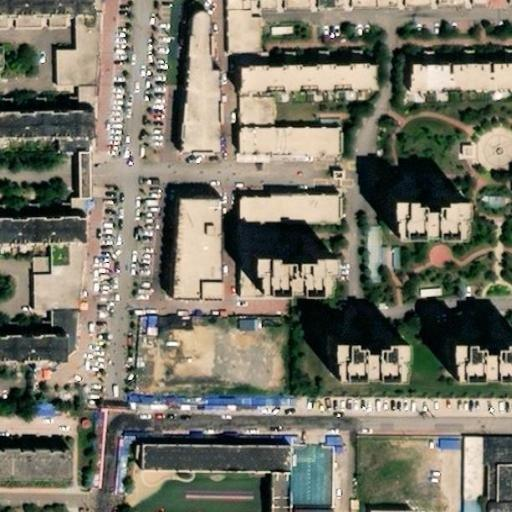building: (170, 194, 226, 306), (183, 30, 223, 173), (238, 71, 379, 106), (36, 254, 81, 355), (144, 464, 291, 491), (59, 22, 99, 121), (266, 261, 352, 307), (246, 196, 345, 232), (415, 72, 512, 107), (333, 334, 410, 378), (405, 202, 482, 246), (241, 135, 344, 167), (0, 0, 99, 28), (450, 327, 512, 371), (0, 227, 85, 259), (0, 455, 73, 489), (64, 147, 91, 228), (0, 328, 63, 361), (233, 0, 373, 12), (243, 259, 280, 300), (103, 429, 127, 491), (388, 0, 496, 11), (359, 221, 378, 283), (465, 466, 490, 512), (490, 467, 512, 512), (363, 500, 415, 512), (28, 397, 53, 417), (273, 491, 296, 512), (412, 279, 440, 296), (265, 19, 292, 34), (434, 433, 459, 449), (233, 313, 258, 328), (455, 138, 473, 155)
